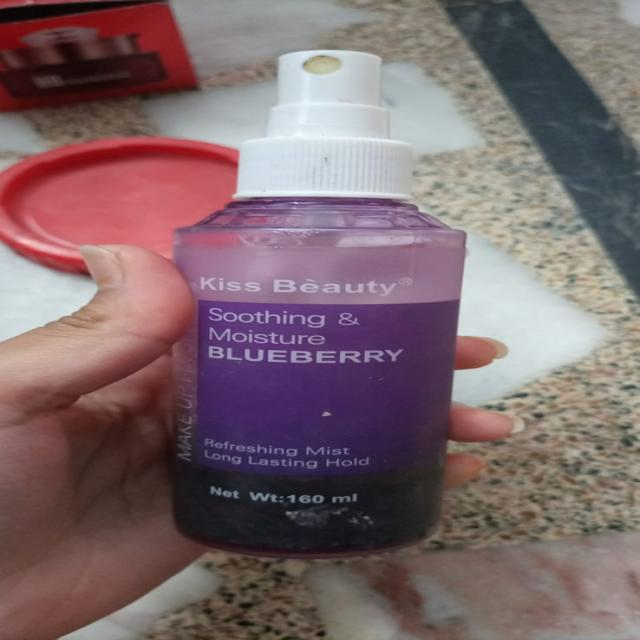setting spray: (155, 40, 486, 570)
